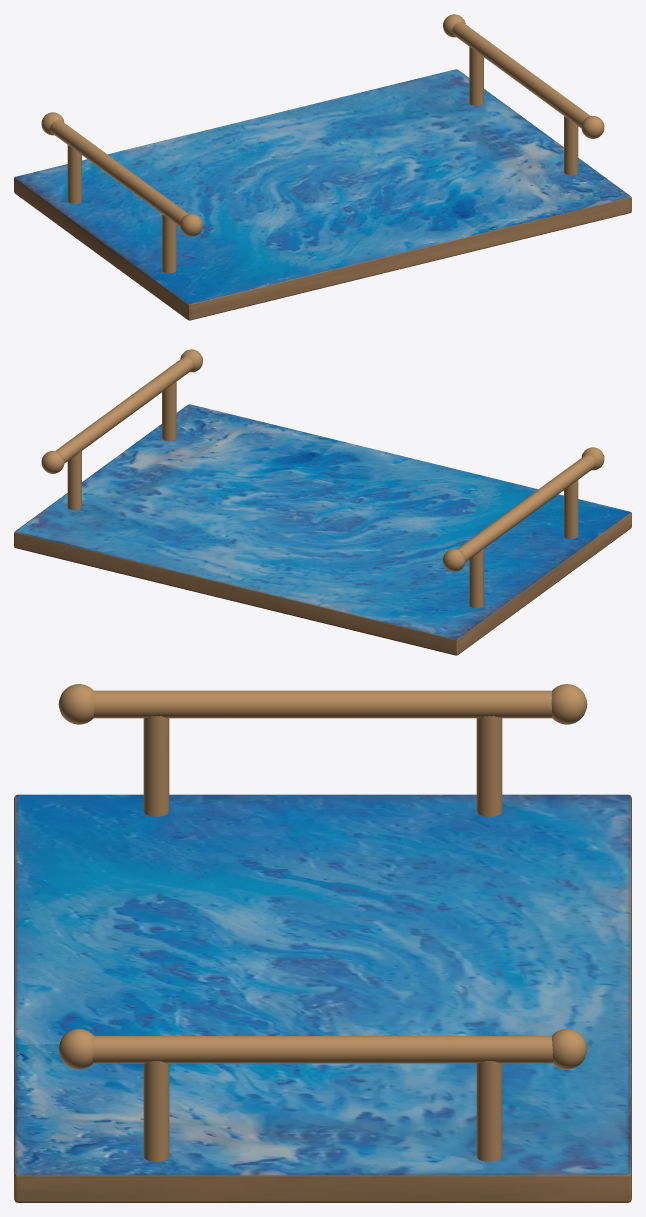
3 views of the same model, one above another, from view 1: azimuth 30°, elevation 25°; view 2: azimuth 150°, elevation 25°; view 3: azimuth 270°, elevation 25° (orthographic). The views are drawn at different scales.
Parts seen in each view (by area): view 1: RootNode; view 2: RootNode; view 3: RootNode.
Part boxes in pixels (x1,y1,x2,y2): RootNode: (14, 14, 631, 320); RootNode: (14, 349, 631, 655); RootNode: (14, 684, 631, 1202).
Size of the model in its own units: 0.4437 by 0.0842 by 0.3037.
Materials: 1 (1 with a texture image).
